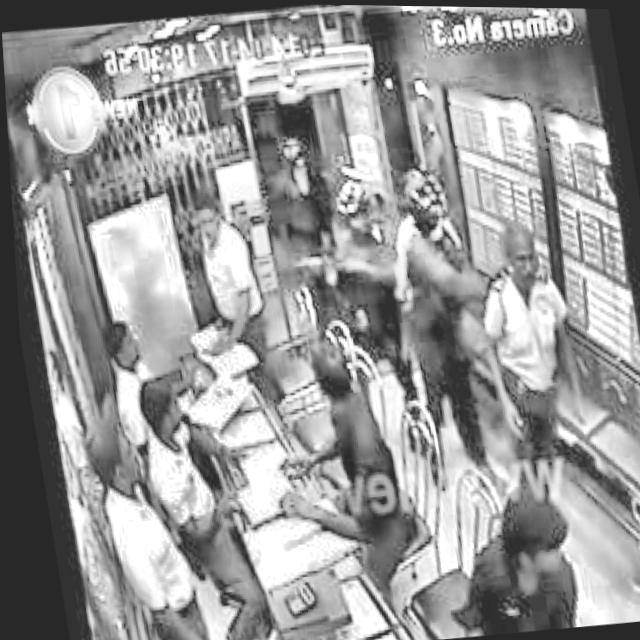robbery: (370, 150, 595, 493)
